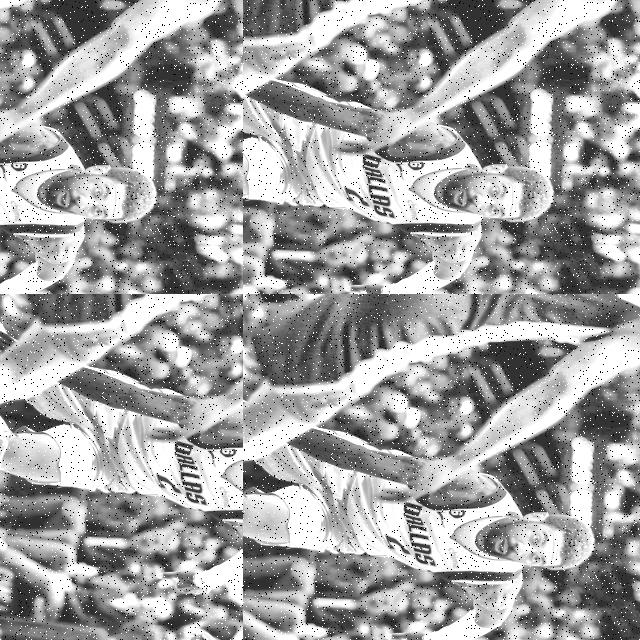Basketball: (358, 119, 550, 266), (230, 27, 241, 35)
